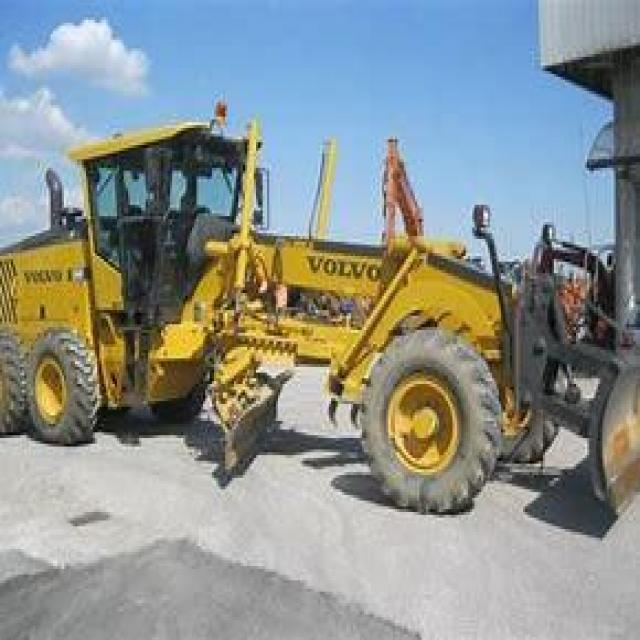Grader: (0, 108, 589, 535)
